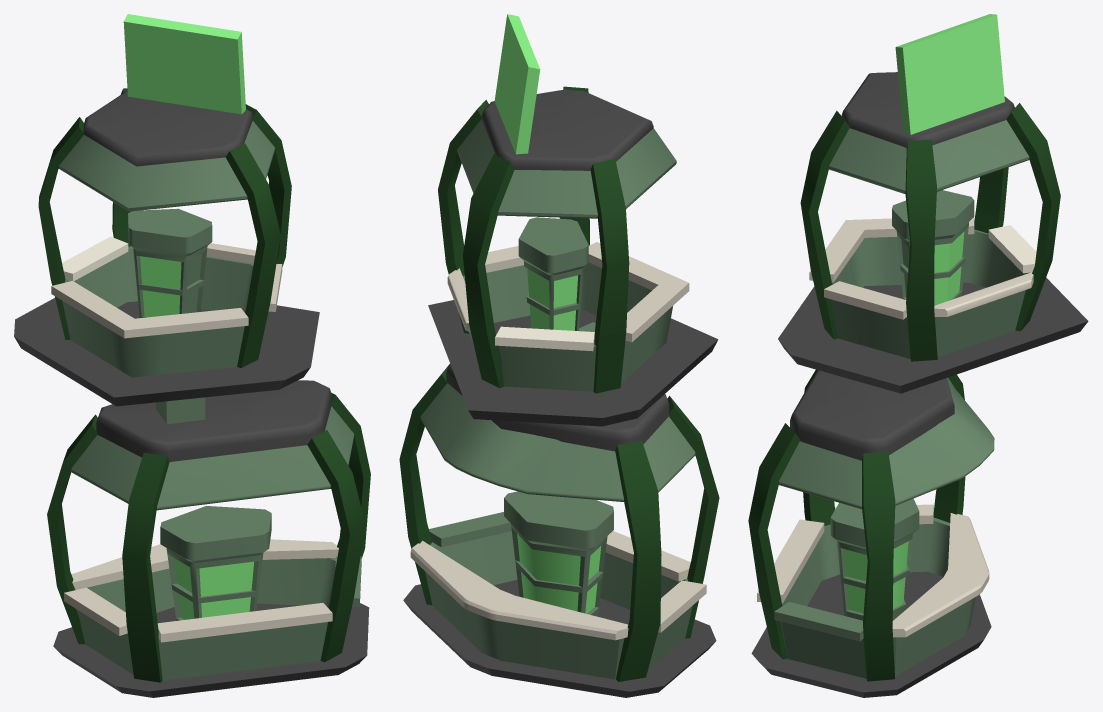
The model's file is Foodstand_03.fbx.
3 renders of one model, left to right at view 1: azimuth 30°, elevation 25°; view 2: azimuth 150°, elevation 25°; view 3: azimuth 270°, elevation 25°, orthographic. The views are drawn at different scales.
Parts seen in each view (by area): view 1: Foodstand_03; view 2: Foodstand_03; view 3: Foodstand_03.
Part boxes in pixels (x1=…): Foodstand_03: x1=14, y1=14, x2=370, y2=697; Foodstand_03: x1=399, y1=14, x2=719, y2=697; Foodstand_03: x1=748, y1=14, x2=1088, y2=697.
Size of the model in its own units: 20.66 by 40.89 by 20.8.
